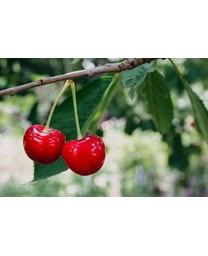cherry: (62, 134, 106, 176), (22, 124, 65, 163)
